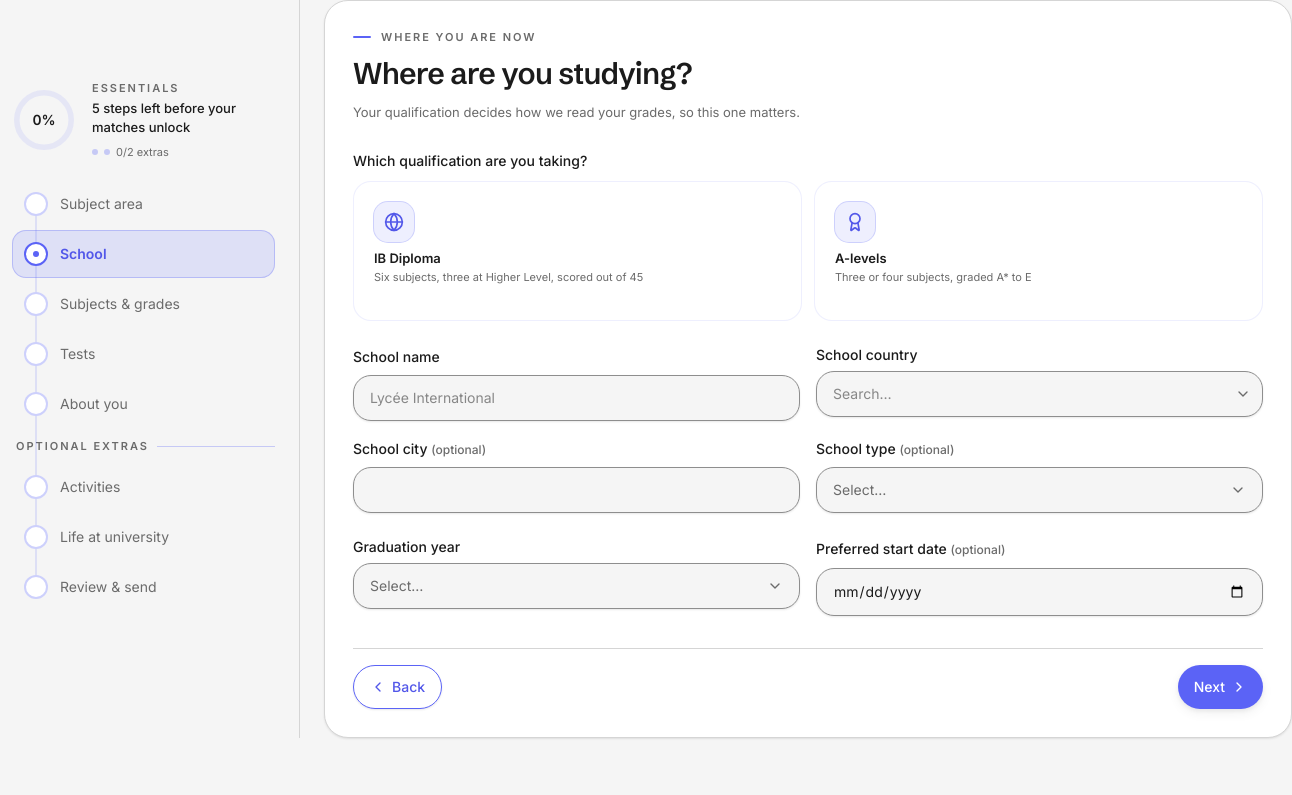
step navigation › goes Back without validating anything
This screenshot has width=1292, height=795.
Click the button "Back" at point(398, 687), box [353,665,442,709]
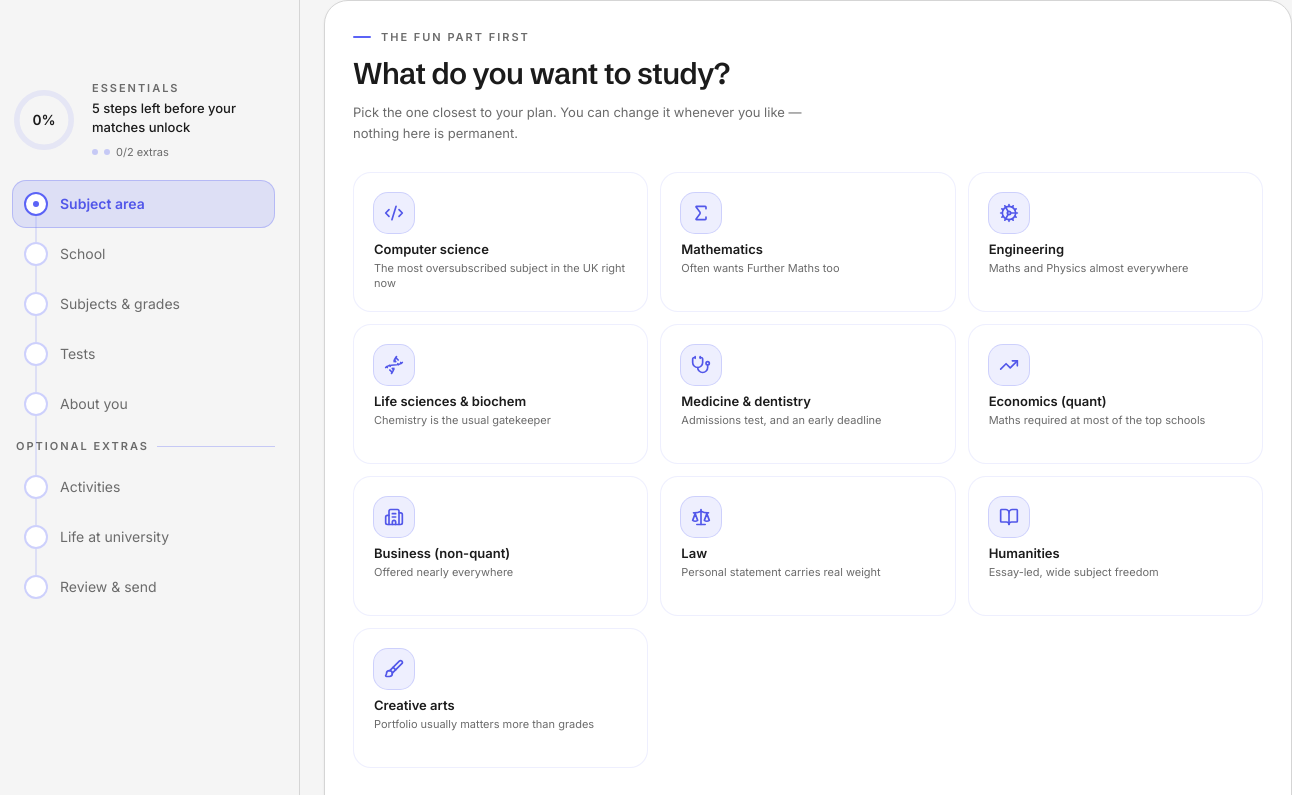
expect the heading "What do you want to study?" is shown: met, box [353,54,730,92]
